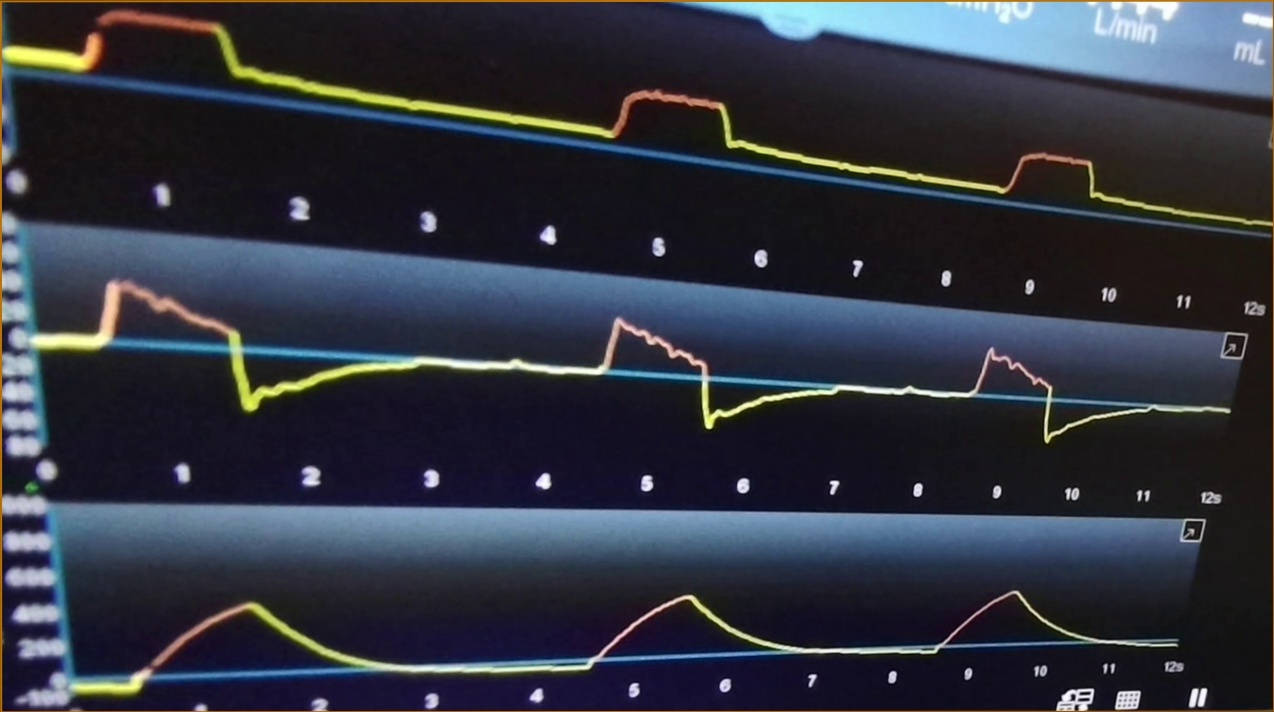Accumulation Flow: (45, 280, 1229, 447)
Volume: (76, 581, 1176, 703)
